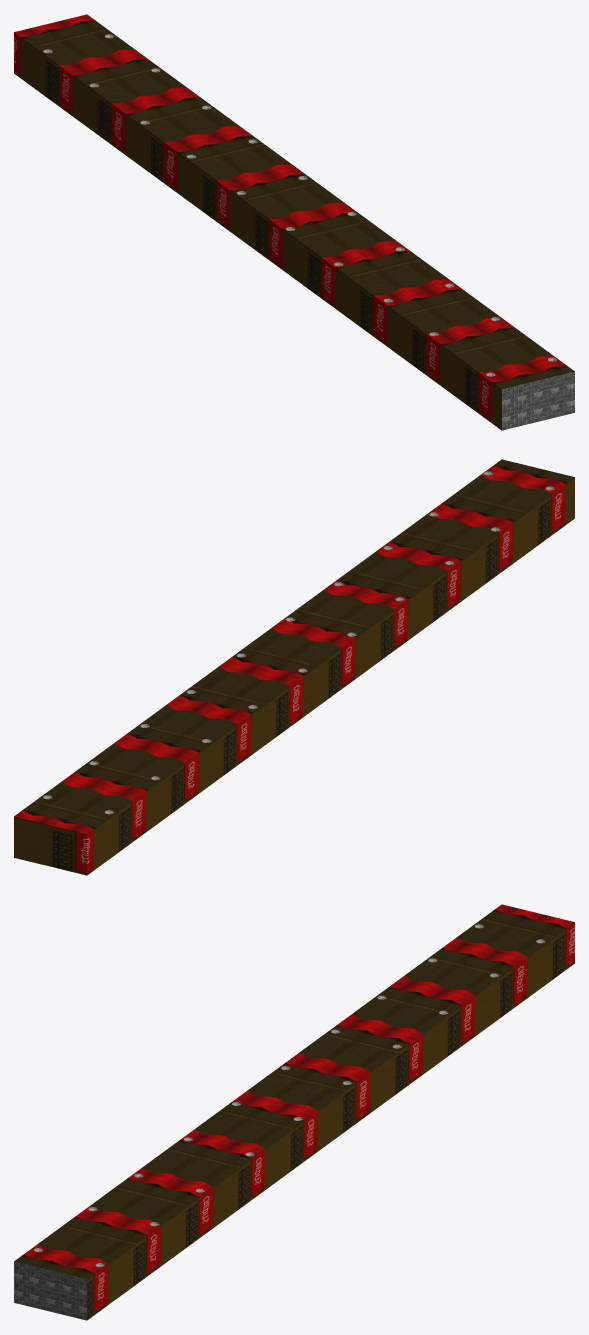
The model's file is Credits_brush.glb.
3 views of the same model, one above another, from view 1: azimuth 30°, elevation 25°; view 2: azimuth 150°, elevation 25°; view 3: azimuth 330°, elevation 25° (orthographic).
Parts seen in each view (by area): view 1: Credits; view 2: Credits; view 3: Credits.
Part boxes in pixels (x1=…): Credits: x1=14, y1=14, x2=574, y2=430; Credits: x1=14, y1=459, x2=574, y2=875; Credits: x1=14, y1=904, x2=574, y2=1320.
Size of the model in its own units: 578 by 312 by 6673.
Materials: 6 (6 with a texture image).
